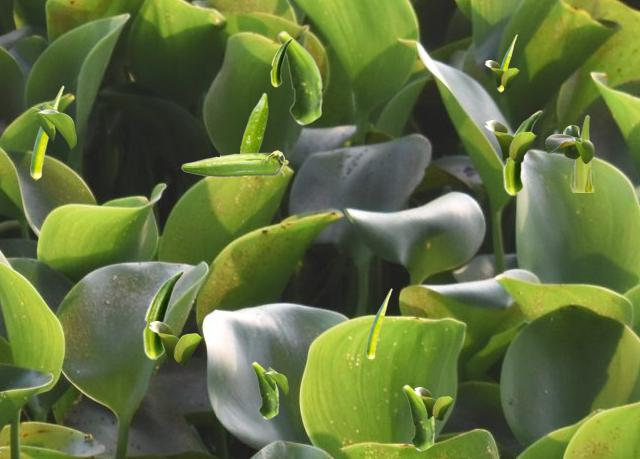okra: (277, 30, 322, 124), (142, 270, 183, 359), (502, 110, 541, 195), (30, 85, 63, 179), (181, 150, 287, 176), (402, 384, 434, 450), (570, 115, 594, 191), (366, 288, 391, 359), (240, 92, 267, 152), (251, 361, 278, 418), (497, 34, 516, 91), (270, 38, 291, 86)
